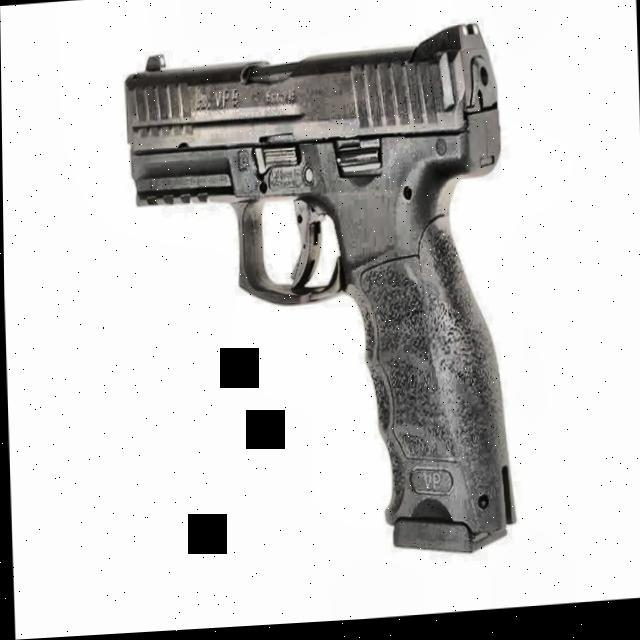HKVP9: (121, 22, 517, 581)
